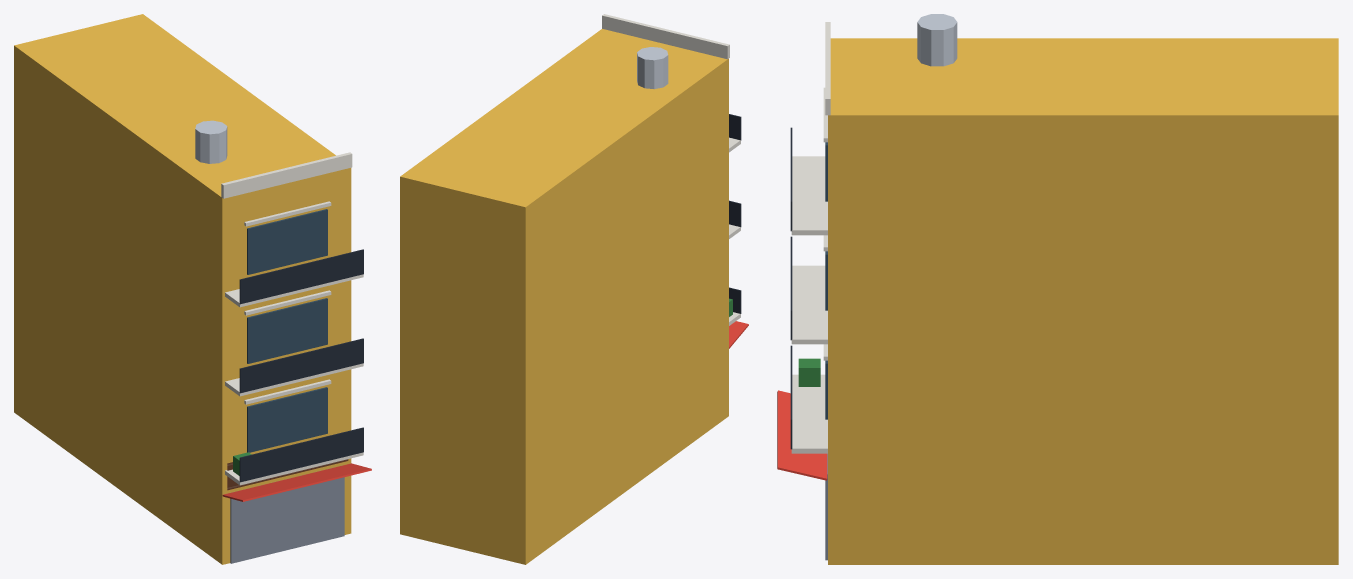
Rendered from shophouse_c.glb.
The picture shows the model from 3 angles, left to right: view 1: azimuth 30°, elevation 25°; view 2: azimuth 150°, elevation 25°; view 3: azimuth 270°, elevation 25°; orthographic projection. The views are drawn at different scales.
Parts seen in each view (by area): view 1: shophouse; view 2: shophouse; view 3: shophouse.
Part boxes in pixels (bbox=[...]): shophouse: bbox=[14, 14, 371, 564]; shophouse: bbox=[400, 14, 748, 564]; shophouse: bbox=[777, 14, 1338, 564].
Bounding box in the file's own units: 5 × 14.7 × 15.39.
Materials: 9 (1 with a texture image).
